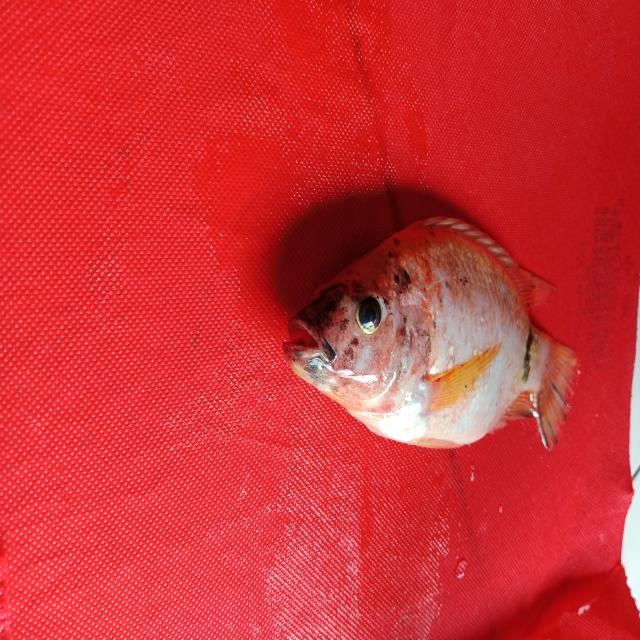ikan: (274, 192, 588, 464)
